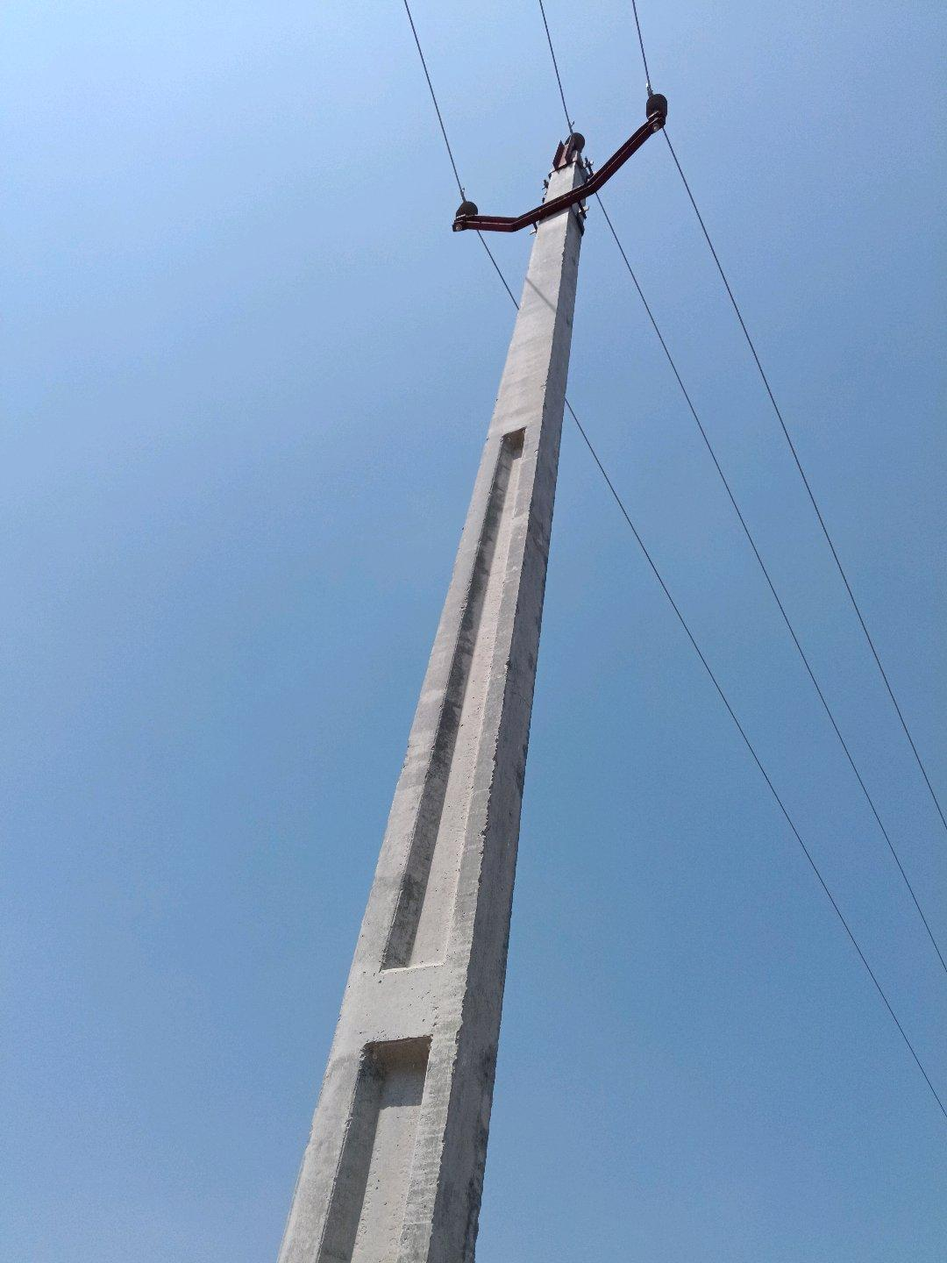{"0" "insulator", "1" "pole", "2" "crossarm", "3" "conductor", "4" "street_: (278, 91, 667, 1262), (481, 246, 494, 259), (431, 227, 435, 235), (475, 236, 481, 240), (433, 218, 435, 220)
